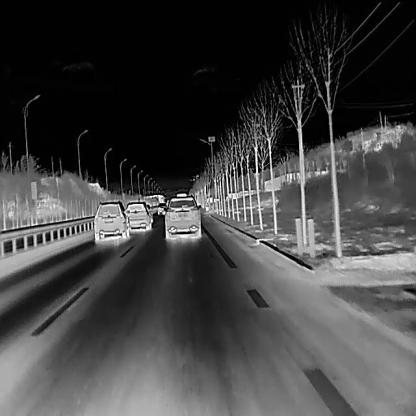car: (162, 193, 201, 240), (92, 200, 129, 240), (123, 200, 151, 230), (156, 203, 166, 214)
